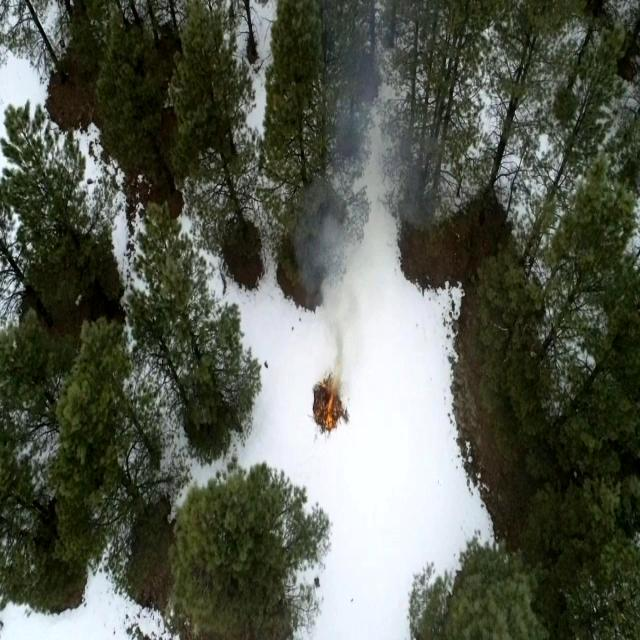Fire: (318, 376, 342, 434)
Smoke: (300, 0, 419, 369)
